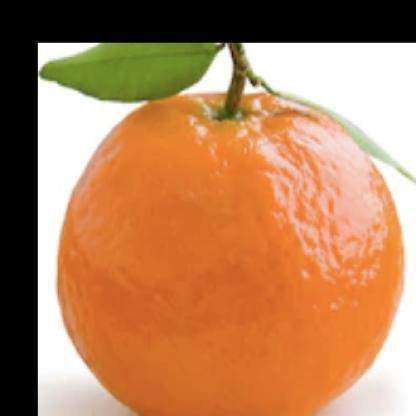fresh: (54, 85, 405, 416)
